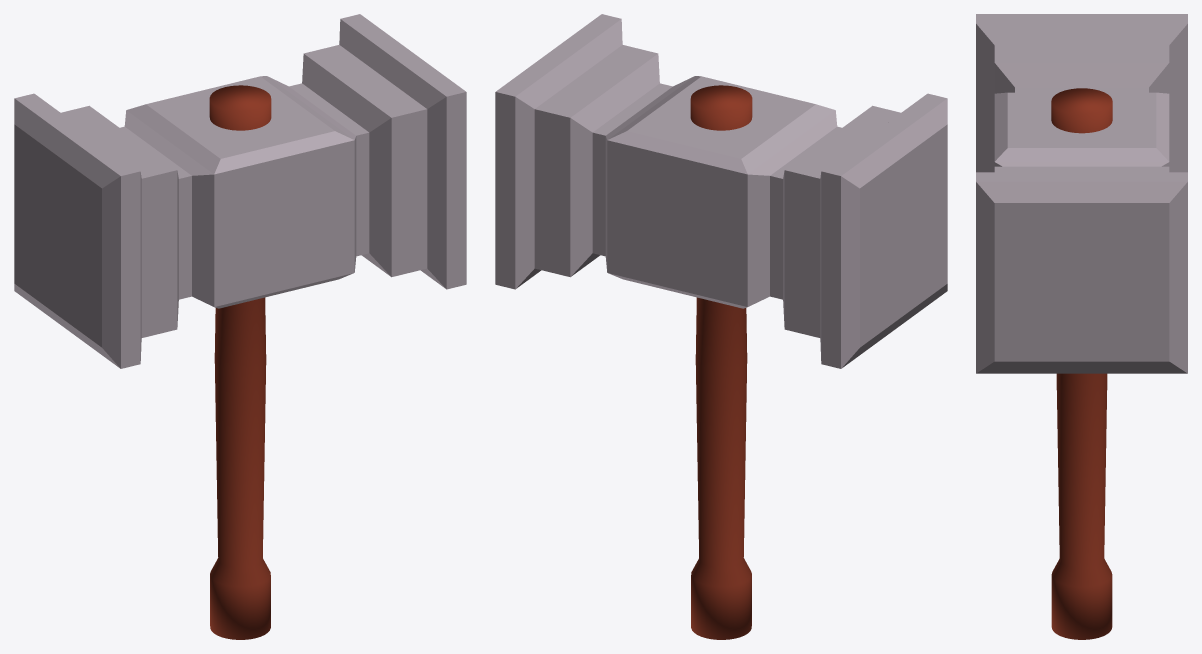
Rendered from Hammer.fbx.
The picture shows the model from 3 angles, left to right: view 1: azimuth 30°, elevation 25°; view 2: azimuth 150°, elevation 25°; view 3: azimuth 270°, elevation 25°; orthographic projection.
Visible parts, largest first — view 1: Hammer; view 2: Hammer; view 3: Hammer.
Boxes of the visible parts, bbox=[...] form: Hammer: bbox=[14, 14, 466, 639]; Hammer: bbox=[495, 14, 947, 639]; Hammer: bbox=[976, 14, 1187, 639].
Bounding box in the file's own units: 0.3219 × 0.4488 × 0.1627.
